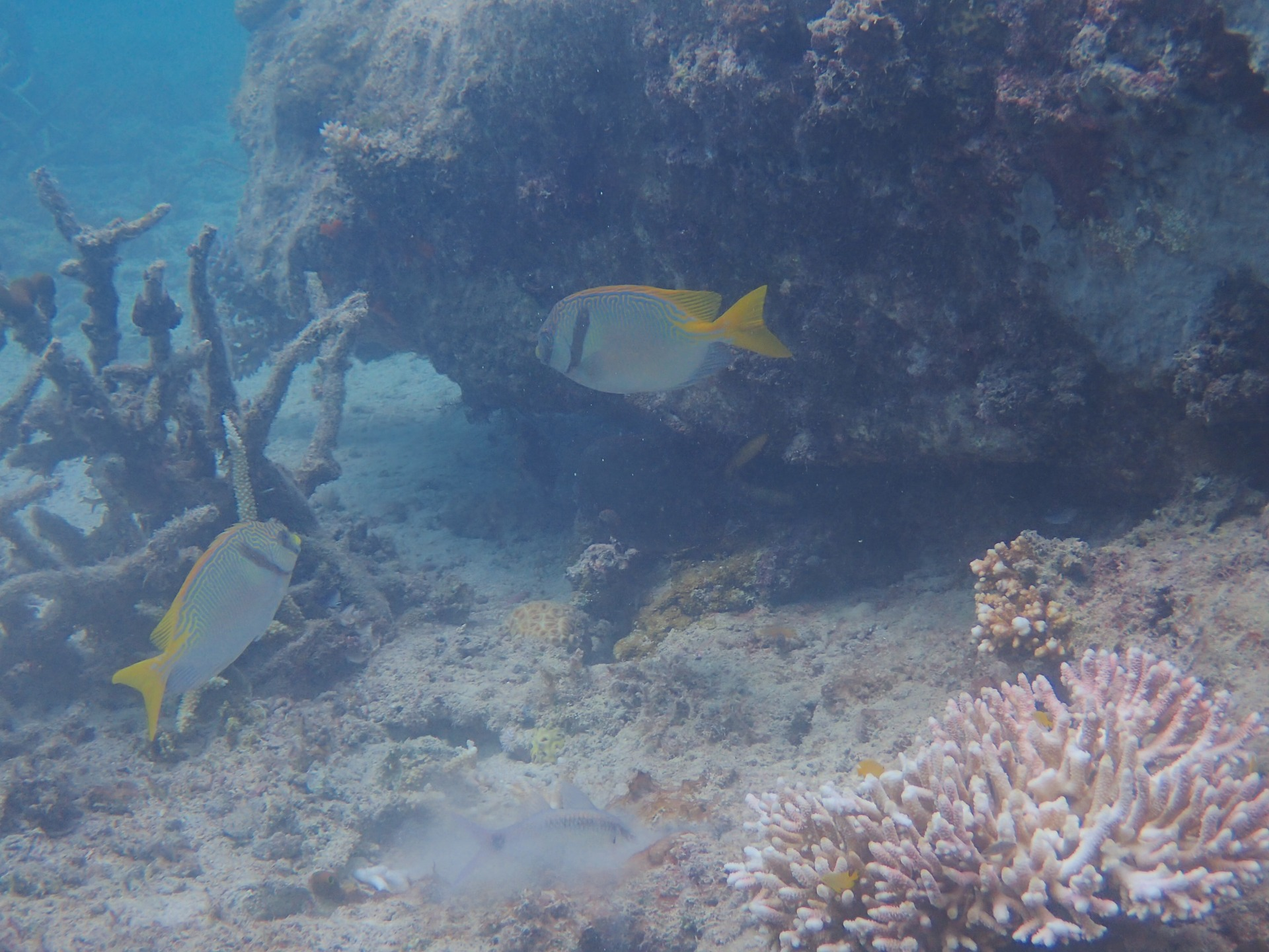fishbody: (114, 517, 305, 739), (533, 269, 787, 399)
fishhead: (530, 297, 597, 388), (234, 518, 300, 590)
